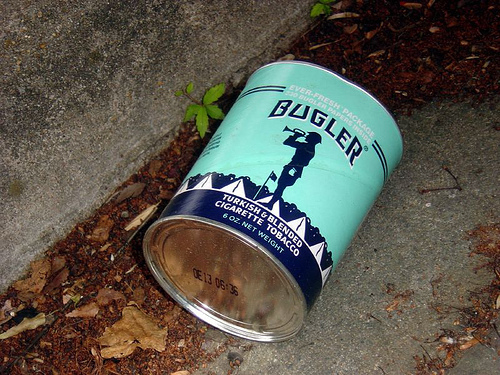litter: (142, 58, 404, 344)
